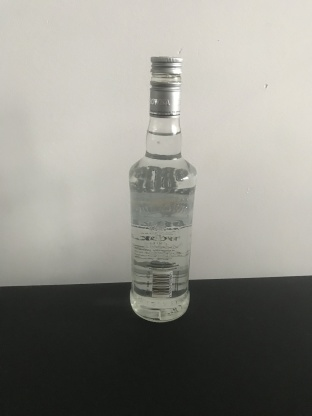nakretka: (148, 55, 184, 118)
